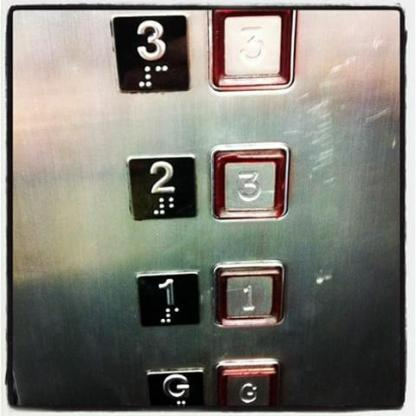1: (210, 257, 286, 325), (136, 268, 201, 328)
2: (125, 152, 201, 222)
3: (206, 8, 298, 93), (108, 12, 192, 94), (208, 140, 290, 223)
G: (147, 363, 206, 410)
unknown: (214, 357, 280, 410)
